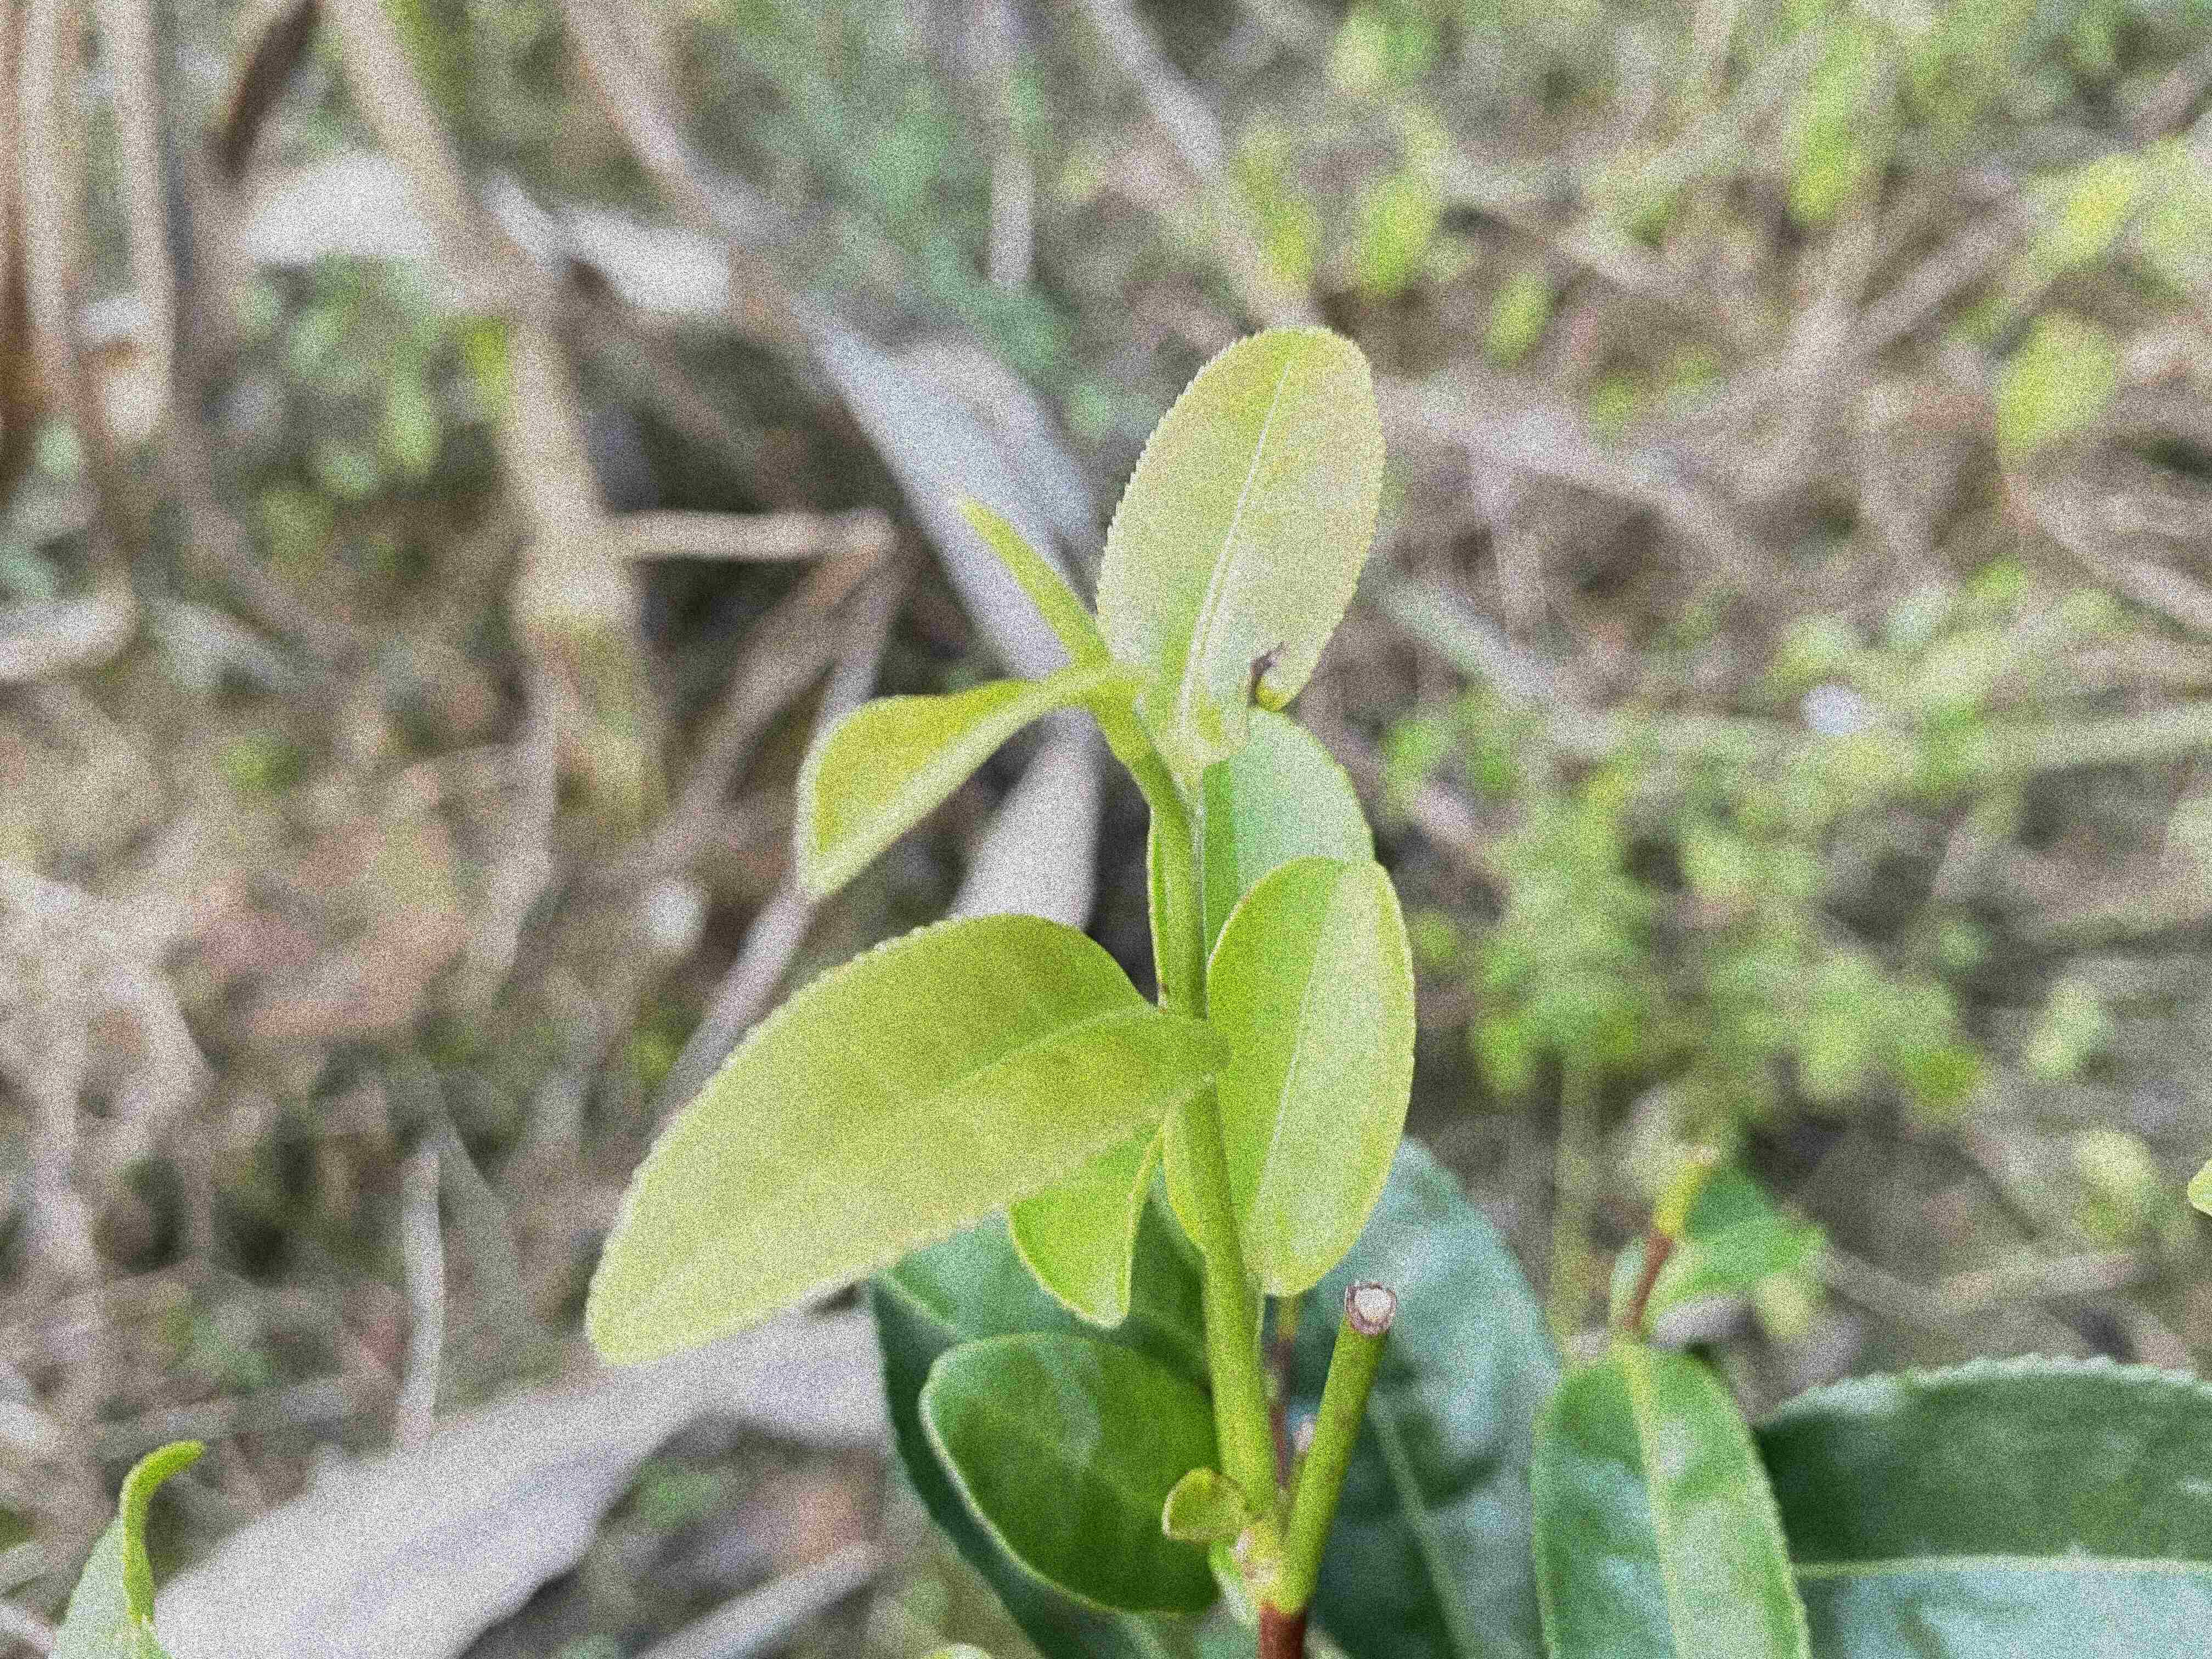chihuo_low: (1092, 326, 1383, 774)
healthy: (582, 910, 1230, 1364), (1158, 852, 1421, 1300)
